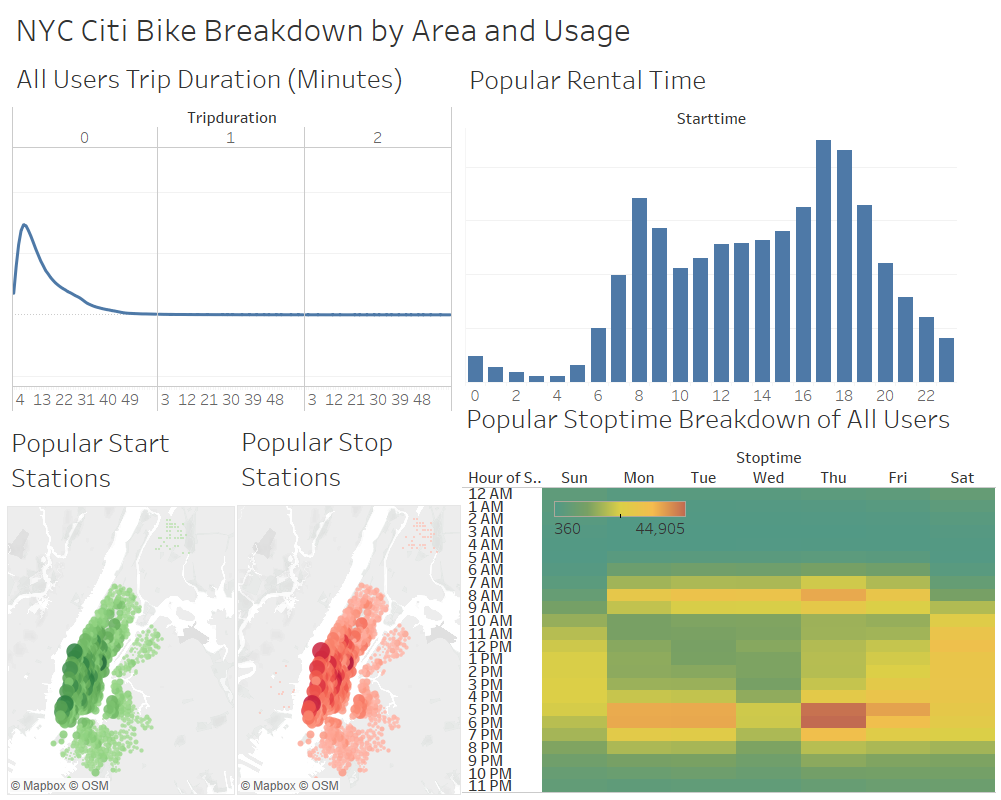

What the dashboard file says about the page in this screenshot:
{"tool":"tableau","page":{"name":"Usage Breakdown","canvas":[1000,800],"ordinal":1},"visuals":[{"type":"title","box":[8,8,984,50]},{"type":"worksheet","title":"All Users Trip Duration (Minutes) ","mark":"Automatic","rows":["Converted_Bike.csv_7AA075E4AC8A4D958C8C88A41BEB37E3"],"cols":["tripduration","tripduration"],"box":[12,61,440,355]},{"type":"worksheet","title":"Popular Rental Time","mark":"Bar","rows":["Converted_Bike.csv_7AA075E4AC8A4D958C8C88A41BEB37E3"],"cols":["starttime"],"box":[465,62,492,349]},{"type":"worksheet","title":"All usage by hour/weekday (2)","mark":"Automatic","rows":["starttime"],"cols":["stoptime"],"box":[462,401,534,396]},{"type":"worksheet","title":"Popular Stop Stations","mark":"Automatic","rows":["end station latitude"],"cols":["end station longitude"],"box":[237,424,224,375]},{"type":"worksheet","title":"Popular Start Stations","mark":"Automatic","rows":["start station latitude"],"cols":["start station longitude"],"box":[7,425,228,374]},{"type":"legend","title":"All usage by hour/weekday (2)","param":"[federated.1adwg1p05xwqxo1e99phk1s4ny15].[__tableau_internal_object_id__].[cnt:C","box":[550,501,140,88]}]}

Visuals, with their boxes in screenshot pixels (x1, y1, x2, y2), scaled from the page's 1000x800 canvas onto the 1001x800 screenshot:
title: Rect(8, 8, 993, 58)
"All Users Trip Duration (Minutes) " worksheet: Rect(12, 61, 452, 416)
"Popular Rental Time" worksheet (Bar marks): Rect(465, 62, 958, 411)
"All usage by hour/weekday (2)" worksheet: Rect(462, 401, 997, 797)
"Popular Stop Stations" worksheet: Rect(237, 424, 461, 799)
"Popular Start Stations" worksheet: Rect(7, 425, 235, 799)
"All usage by hour/weekday (2)" legend: Rect(551, 501, 691, 589)
